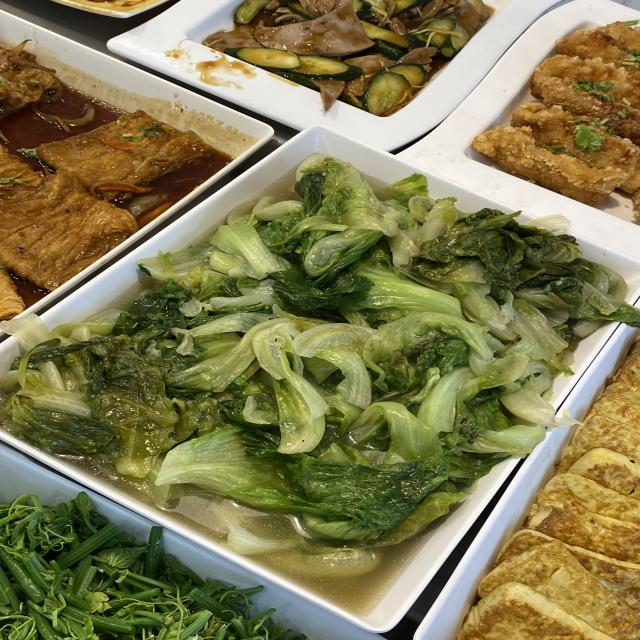Fushan-lettuce: (210, 236, 527, 452)
bean bag: (0, 118, 170, 207)
